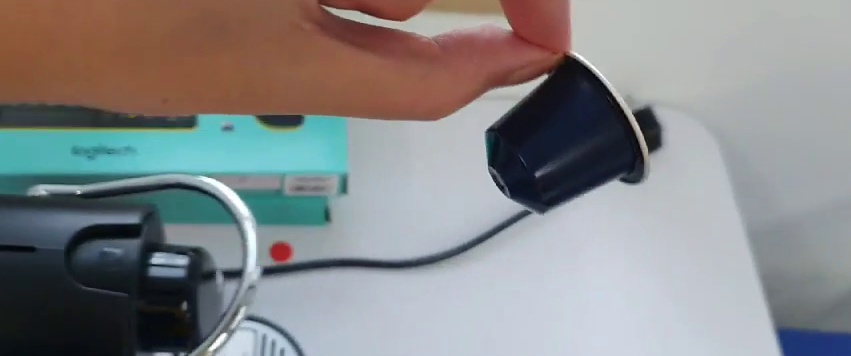capsule_1: (485, 51, 650, 216)
